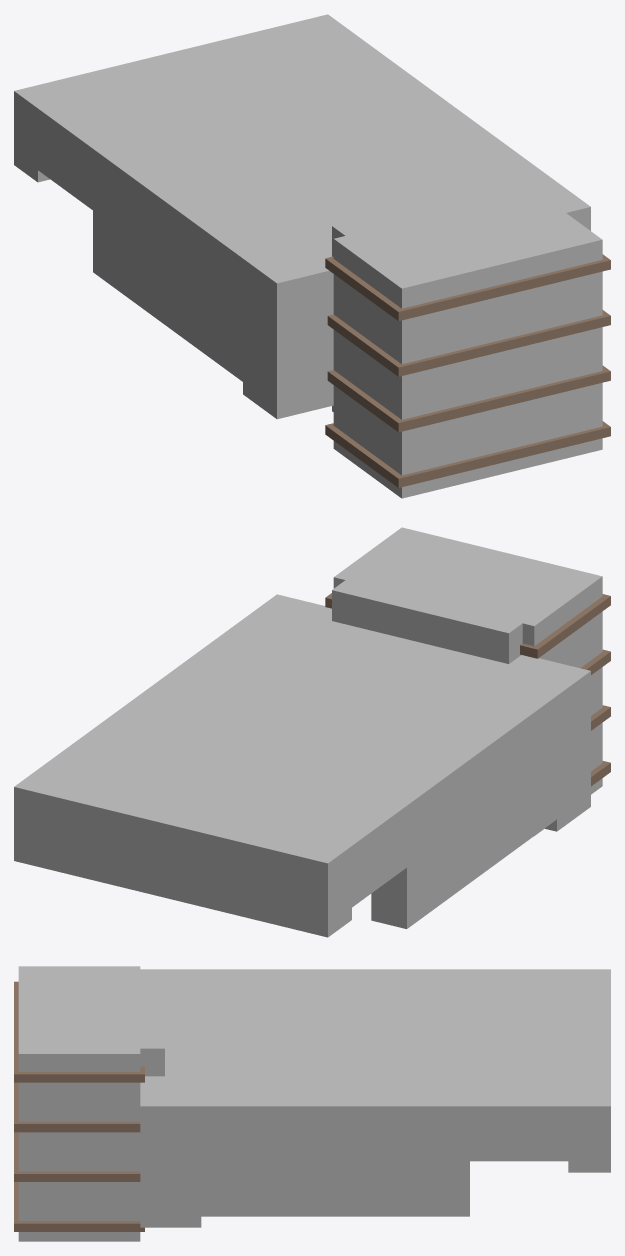
The model's file is cabelo_coque_rede.glb.
3 views of the same model, one above another, from view 1: azimuth 30°, elevation 25°; view 2: azimuth 150°, elevation 25°; view 3: azimuth 270°, elevation 25° (orthographic). The views are drawn at different scales.
Parts seen in each view (by area): view 1: cabelo_coque_rede; view 2: cabelo_coque_rede; view 3: cabelo_coque_rede.
Boxes of the visible parts, x1,y1,x2,y2 form: cabelo_coque_rede: (14, 14, 610, 498); cabelo_coque_rede: (14, 527, 610, 937); cabelo_coque_rede: (14, 966, 610, 1241).
Size of the model in its own units: 0.532 by 0.34 by 0.9795.
